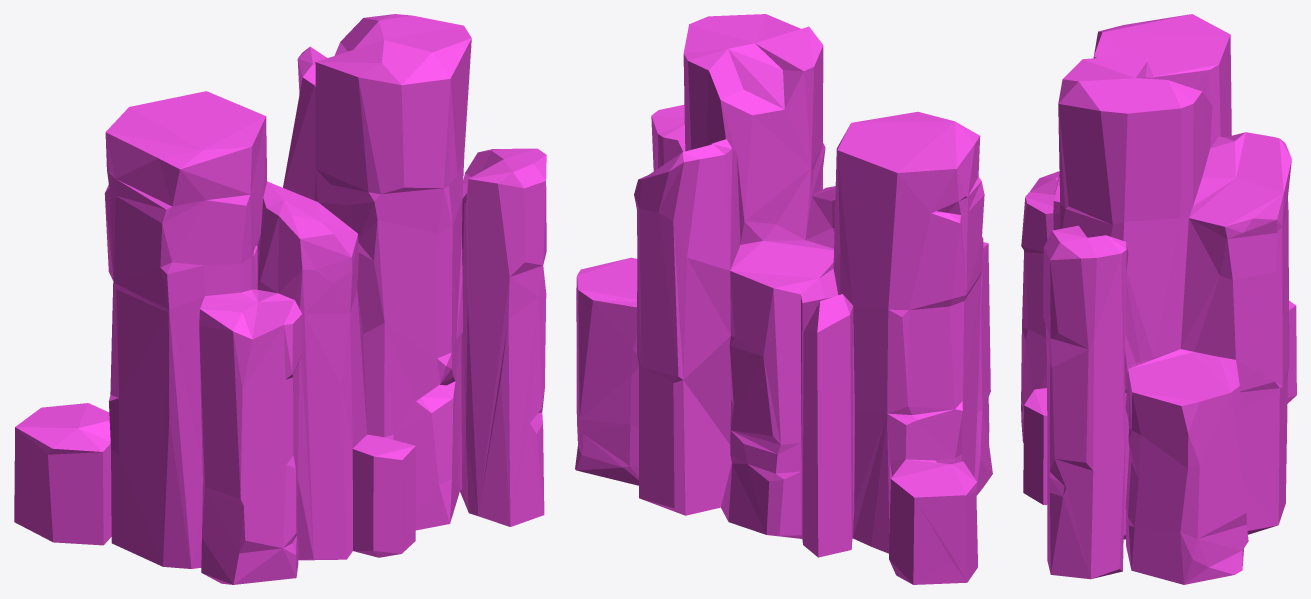
File: SM_Rock_Bazalt_A_Fantasy.fbx
The picture shows the model from 3 angles, left to right: view 1: azimuth 30°, elevation 25°; view 2: azimuth 150°, elevation 25°; view 3: azimuth 270°, elevation 25°; orthographic projection. The views are drawn at different scales.
Parts seen in each view (by area): view 1: SM_Rock_Bazalt_A_Fantasy; view 2: SM_Rock_Bazalt_A_Fantasy; view 3: SM_Rock_Bazalt_A_Fantasy.
Boxes of the visible parts, box(x1,y1,x2,y2) form: SM_Rock_Bazalt_A_Fantasy: box(14, 14, 546, 584); SM_Rock_Bazalt_A_Fantasy: box(575, 14, 992, 584); SM_Rock_Bazalt_A_Fantasy: box(1021, 14, 1296, 584).
Bounding box in the file's own units: 2.11 × 2.07 × 1.15.
